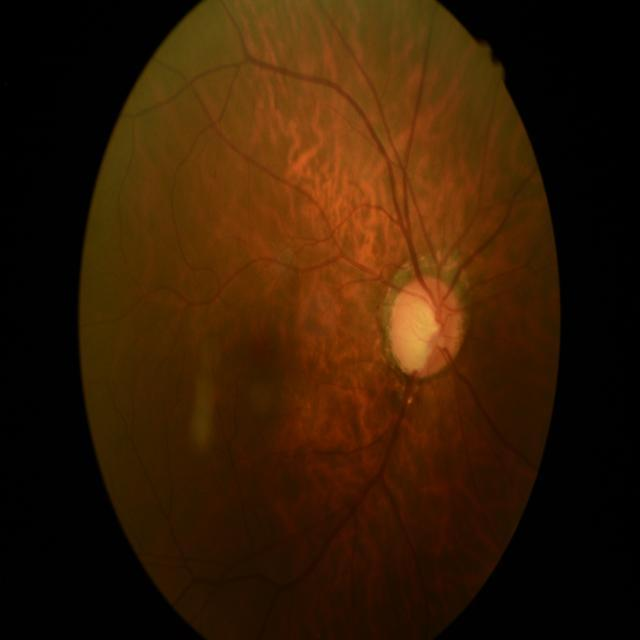cup: (398, 304, 446, 368)
disk: (388, 275, 466, 378)
